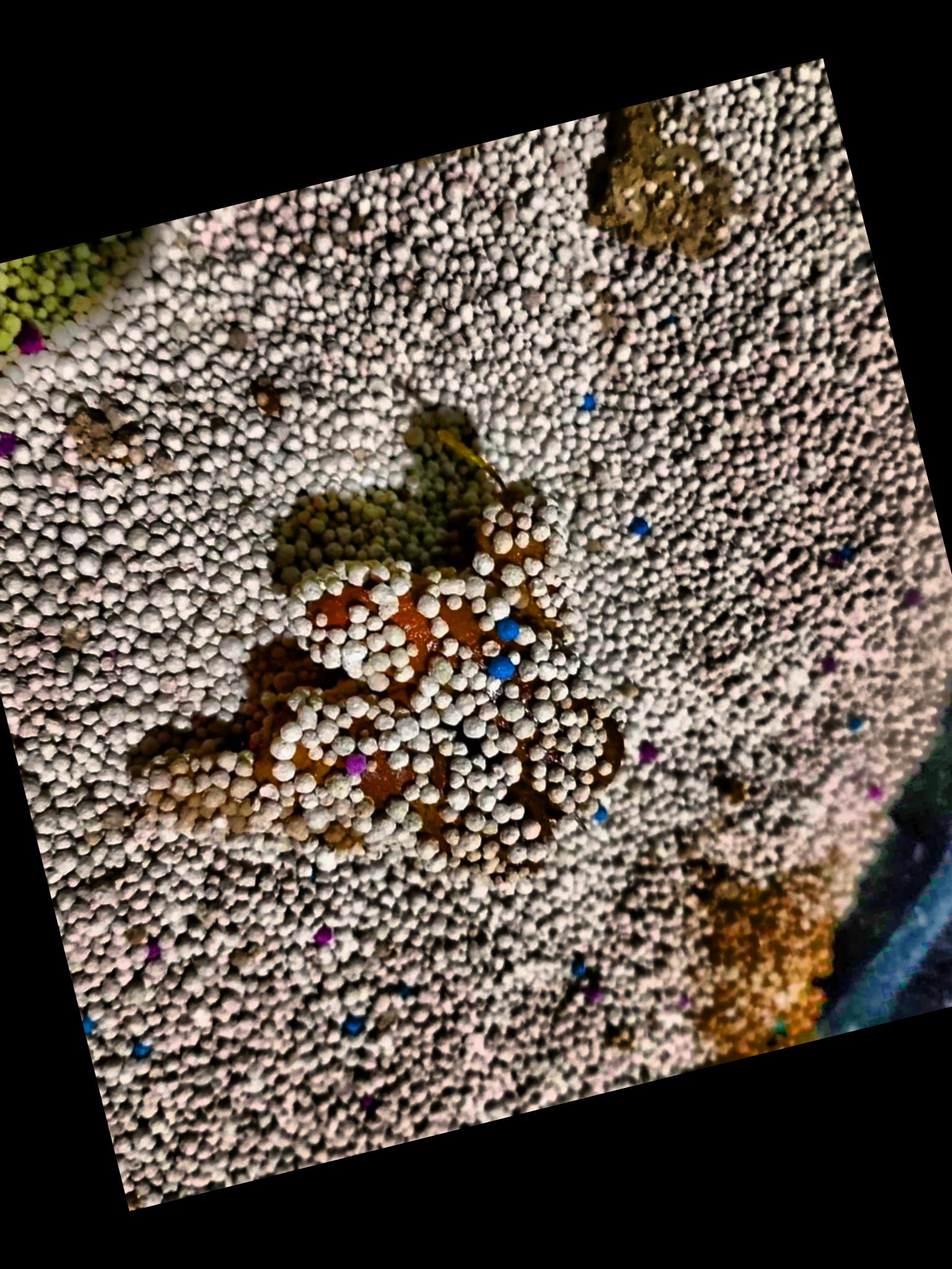poop: (144, 487, 623, 886)
